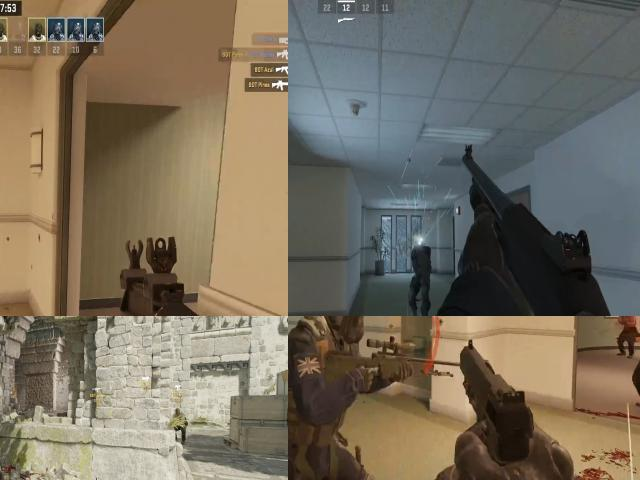CT: (288, 316, 365, 480), (407, 233, 433, 316)
CT-Head: (316, 316, 372, 340)
T: (614, 316, 636, 352), (170, 405, 189, 441)
T-Head: (174, 405, 182, 418)
